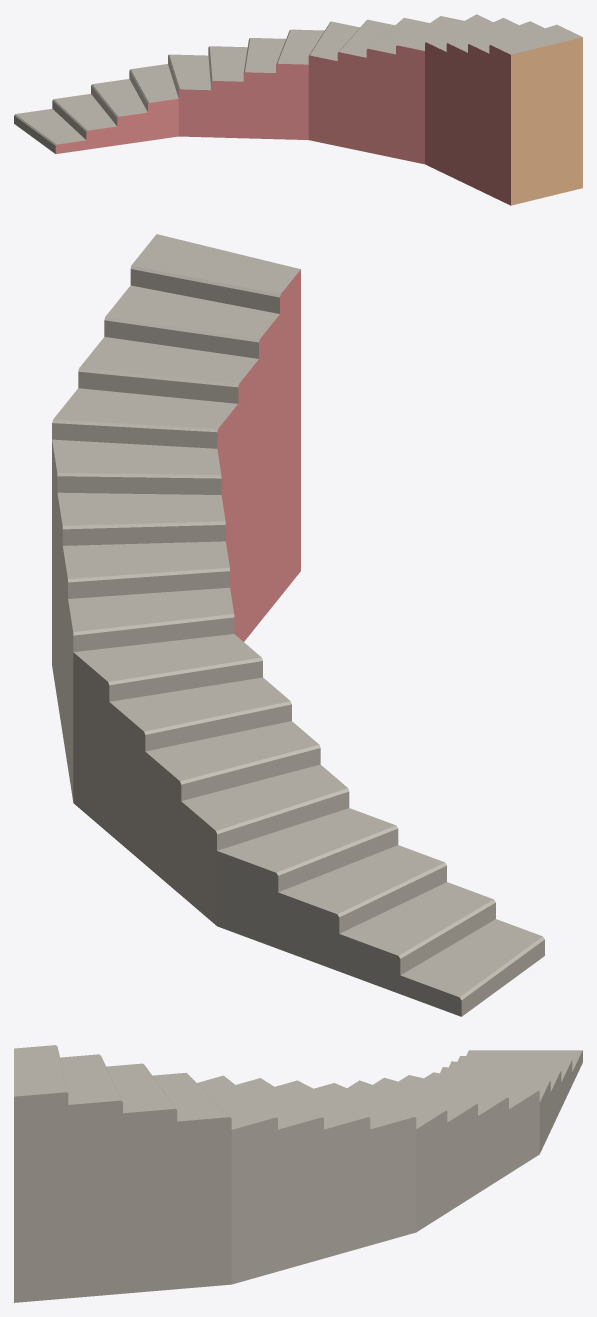
The model's file is Tiered_Walkway_Steps_Curve_Tall_5x5.glb.
The picture shows the model from 3 angles, top to bottom: view 1: azimuth 30°, elevation 25°; view 2: azimuth 150°, elevation 25°; view 3: azimuth 270°, elevation 25°; orthographic projection. The views are drawn at different scales.
Visible parts, largest first — view 1: Tiered_Walkway_Steps_Curve_Tall_5x5; view 2: Tiered_Walkway_Steps_Curve_Tall_5x5; view 3: Tiered_Walkway_Steps_Curve_Tall_5x5.
Boxes of the visible parts, <box> form: Tiered_Walkway_Steps_Curve_Tall_5x5: <box>14,14,582,205</box>; Tiered_Walkway_Steps_Curve_Tall_5x5: <box>52,234,544,1016</box>; Tiered_Walkway_Steps_Curve_Tall_5x5: <box>14,1045,582,1302</box>.
Size of the model in its own units: 500 by 200 by 500.
